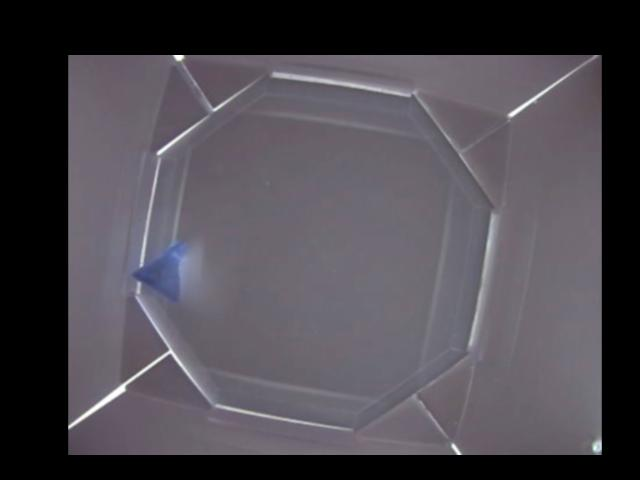Mooli: (133, 239, 189, 300)
